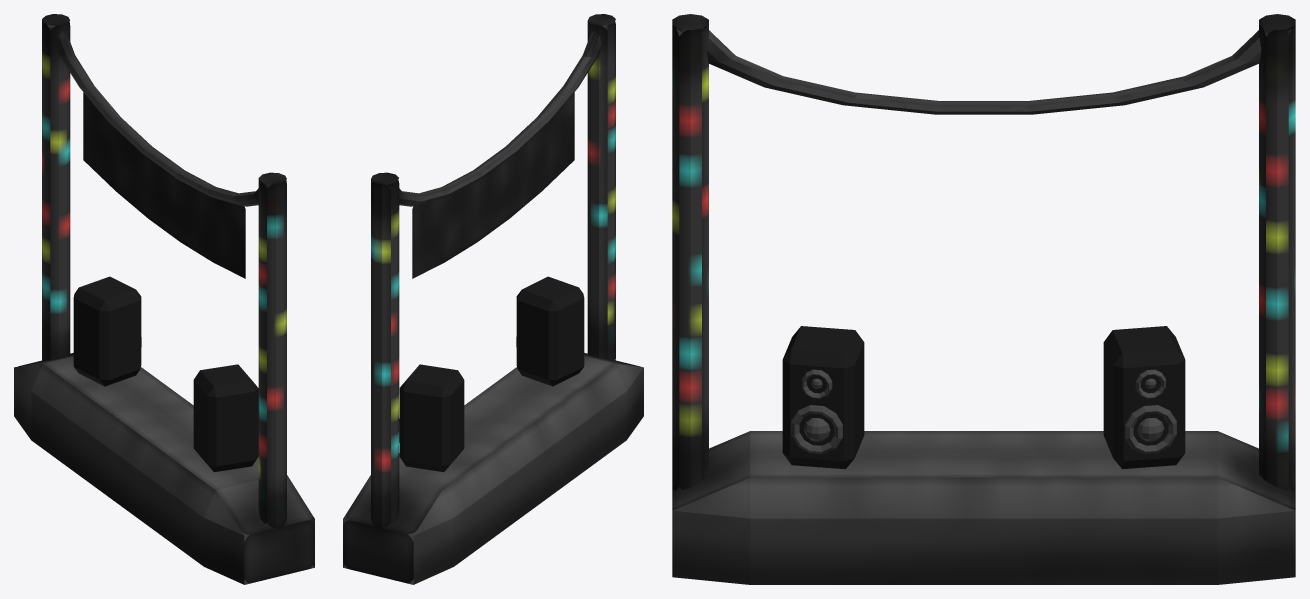
The model's file is juwenalia.fbx.
3 renders of one model, left to right at view 1: azimuth 30°, elevation 25°; view 2: azimuth 150°, elevation 25°; view 3: azimuth 270°, elevation 25°, orthographic. The views are drawn at different scales.
Visible parts, largest first — view 1: beveled_cuboid, plane, cylinder_1, cylinder, beveled_cuboid_2, beveled_cuboid_1, torus; view 2: beveled_cuboid, plane, cylinder, cylinder_1, beveled_cuboid_1, beveled_cuboid_2, torus; view 3: beveled_cuboid, cylinder, cylinder_1, torus, beveled_cuboid_1, beveled_cuboid_2, torus_1, torus_3.
Boxes of the visible parts, x1,y1,x2,y2 form: beveled_cuboid: [14, 353, 314, 584]; plane: [83, 92, 245, 278]; cylinder_1: [258, 172, 286, 527]; cylinder: [42, 14, 70, 360]; beveled_cuboid_2: [73, 276, 141, 386]; beveled_cuboid_1: [193, 364, 258, 472]; torus: [47, 24, 272, 206]; beveled_cuboid: [343, 353, 643, 584]; plane: [412, 92, 574, 278]; cylinder: [371, 172, 399, 527]; cylinder_1: [587, 14, 615, 360]; beveled_cuboid_1: [516, 276, 584, 386]; beveled_cuboid_2: [399, 364, 464, 472]; torus: [385, 25, 607, 206]; beveled_cuboid: [672, 431, 1295, 584]; cylinder: [1259, 14, 1295, 490]; cylinder_1: [672, 14, 708, 490]; torus: [676, 27, 1291, 114]; beveled_cuboid_1: [782, 326, 864, 469]; beveled_cuboid_2: [1103, 326, 1185, 469]; torus_1: [791, 405, 842, 454]; torus_3: [1125, 405, 1176, 454].
Size of the model in its own units: 50 by 200 by 212.
Materials: 2 (2 with a texture image).
